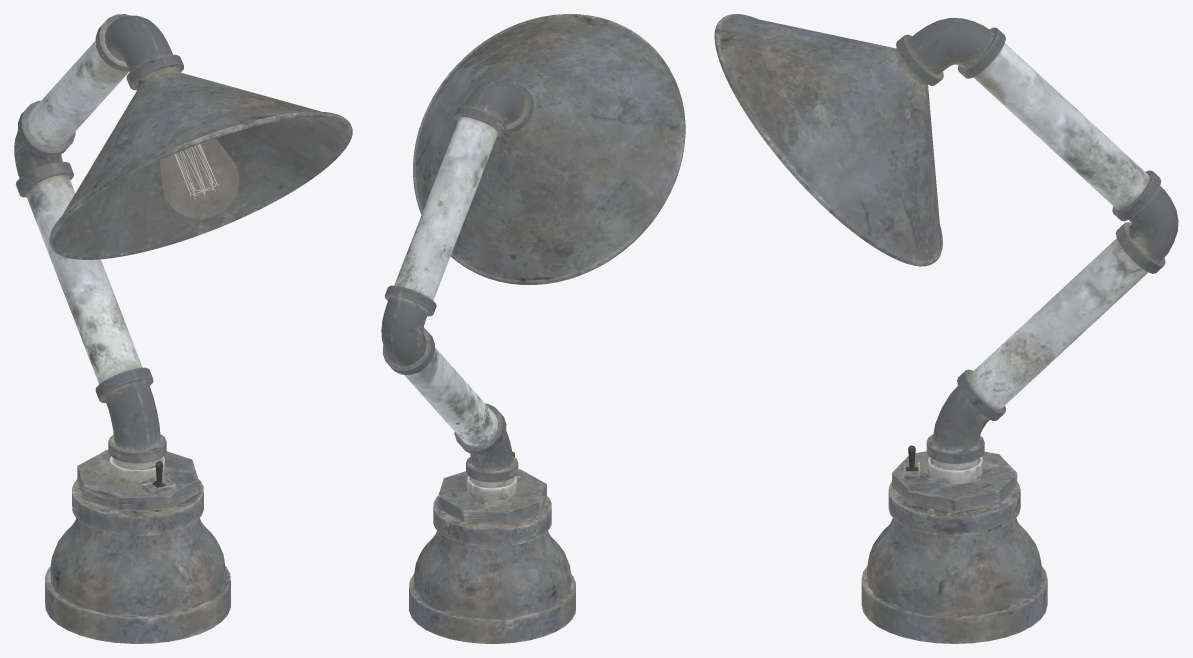
The model's file is pipe-desk-lamp.cd162e4242.glb.
3 renders of one model, left to right at view 1: azimuth 30°, elevation 25°; view 2: azimuth 150°, elevation 25°; view 3: azimuth 270°, elevation 25°, orthographic. The views are drawn at different scales.
Visible parts, largest first — view 1: industrial_pipe_lamp, industrial_pipe_lamp_bulb; view 2: industrial_pipe_lamp; view 3: industrial_pipe_lamp.
Part boxes in pixels (x1=…): industrial_pipe_lamp: x1=14, y1=14, x2=352, y2=643; industrial_pipe_lamp_bulb: x1=160, y1=138, x2=239, y2=218; industrial_pipe_lamp: x1=381, y1=14, x2=685, y2=643; industrial_pipe_lamp: x1=714, y1=14, x2=1178, y2=643.
Size of the model in its own units: 0.183 by 0.3641 by 0.2621.
Materials: 2 (2 with a texture image).
